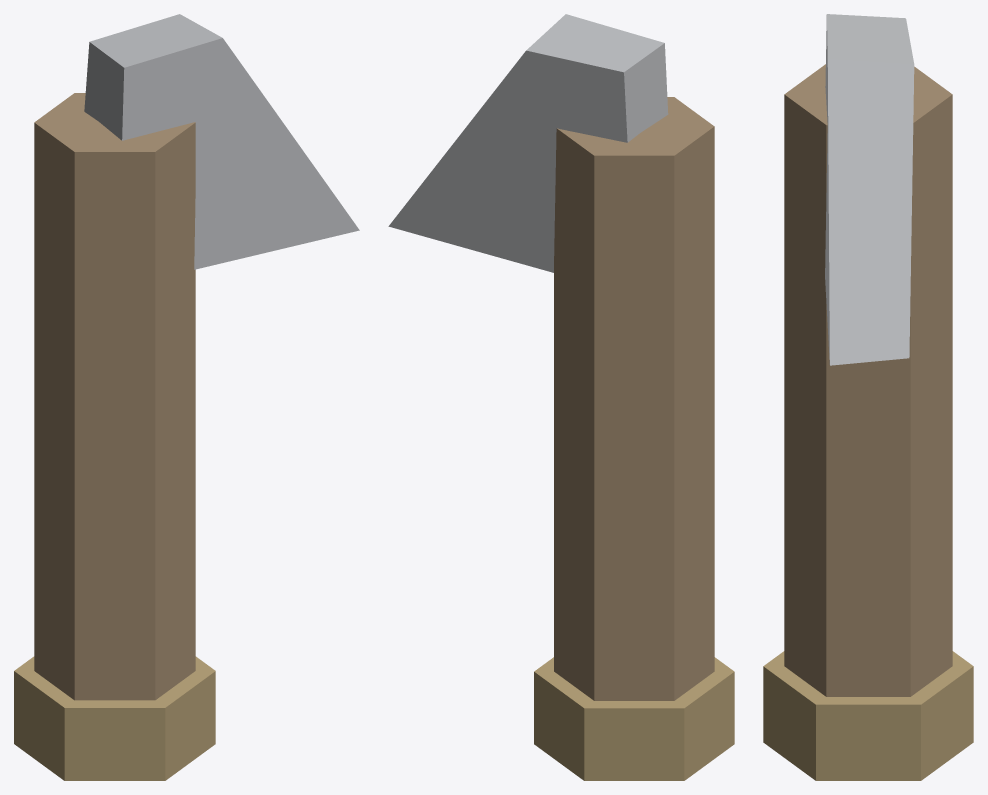
File: handaxe.glb
3 renders of one model, left to right at view 1: azimuth 30°, elevation 25°; view 2: azimuth 150°, elevation 25°; view 3: azimuth 270°, elevation 25°, orthographic. The views are drawn at different scales.
Visible parts, largest first — view 1: handaxe; view 2: handaxe; view 3: handaxe.
Part boxes in pixels (left/top/right/bottom): handaxe: left=14, top=14, right=359, bottom=780; handaxe: left=388, top=14, right=734, bottom=780; handaxe: left=763, top=14, right=973, bottom=780.
Size of the model in its own units: 0.1737 by 0.3822 by 0.1.
